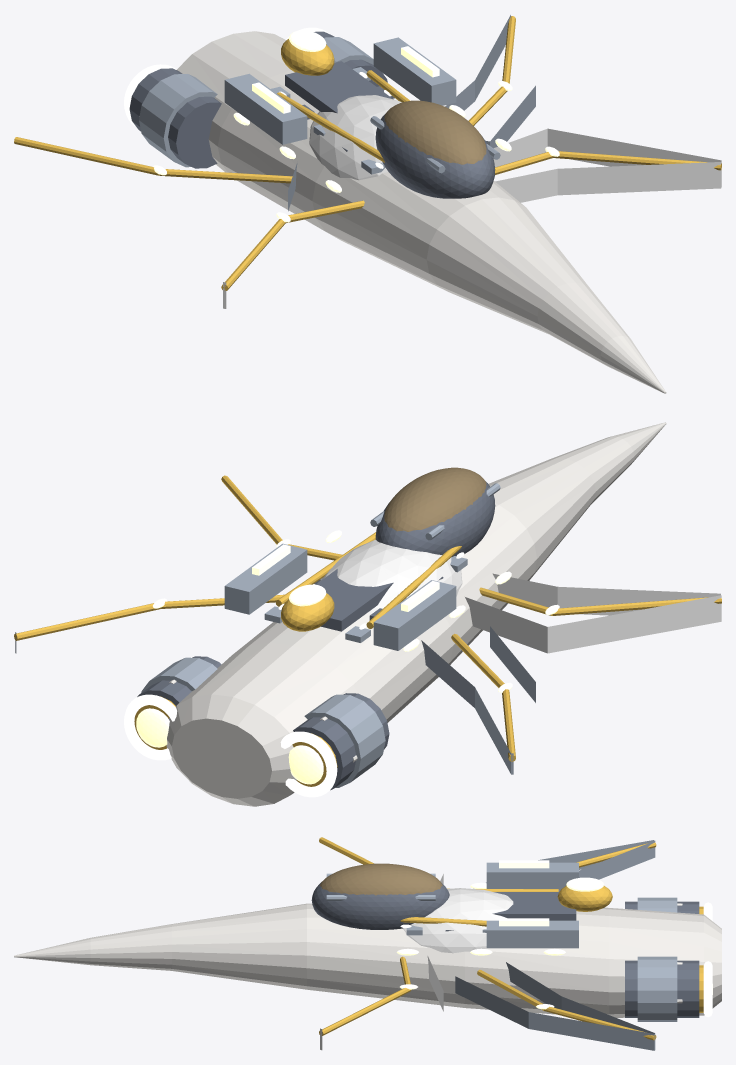
File: SL_LYNX_FINAL.glb
The picture shows the model from 3 angles, top to bottom: view 1: azimuth 30°, elevation 25°; view 2: azimuth 150°, elevation 25°; view 3: azimuth 270°, elevation 25°; orthographic projection. The views are drawn at different scales.
Visible parts, largest first — view 1: LYNX_hull, LYNX_ivory, LYNX_steel, LYNX_dark, LYNX_accent, LYNX_glass, LYNX_neon, LYNX_hot; view 2: LYNX_hull, LYNX_ivory, LYNX_steel, LYNX_accent, LYNX_dark, LYNX_neon, LYNX_glass, LYNX_hot; view 3: LYNX_hull, LYNX_steel, LYNX_dark, LYNX_accent, LYNX_ivory, LYNX_glass, LYNX_neon, LYNX_hot.
Part boxes in pixels (bbox=[...]): LYNX_hull: bbox=[139, 31, 666, 393]; LYNX_ivory: bbox=[223, 95, 721, 308]; LYNX_steel: bbox=[139, 15, 535, 211]; LYNX_dark: bbox=[129, 31, 495, 198]; LYNX_accent: bbox=[14, 16, 721, 290]; LYNX_glass: bbox=[384, 100, 486, 164]; LYNX_neon: bbox=[152, 30, 559, 222]; LYNX_hot: bbox=[124, 27, 391, 168]; LYNX_hull: bbox=[166, 422, 666, 806]; LYNX_ivory: bbox=[315, 540, 721, 653]; LYNX_steel: bbox=[15, 483, 535, 787]; LYNX_accent: bbox=[14, 475, 721, 786]; LYNX_dark: bbox=[137, 481, 495, 790]; LYNX_neon: bbox=[136, 530, 559, 784]; LYNX_glass: bbox=[384, 467, 486, 531]; LYNX_hot: bbox=[124, 552, 464, 797]; LYNX_hull: bbox=[14, 903, 721, 1017]; LYNX_steel: bbox=[326, 840, 677, 1050]; LYNX_dark: bbox=[311, 882, 699, 1017]; LYNX_accent: bbox=[319, 837, 703, 1040]; LYNX_ivory: bbox=[320, 874, 513, 1050]; LYNX_glass: bbox=[320, 863, 442, 895]; LYNX_neon: bbox=[396, 860, 712, 1009]; LYNX_hot: bbox=[400, 902, 712, 1017].
Bounding box in the file's own units: 4.85 × 1.65 × 7.43.
